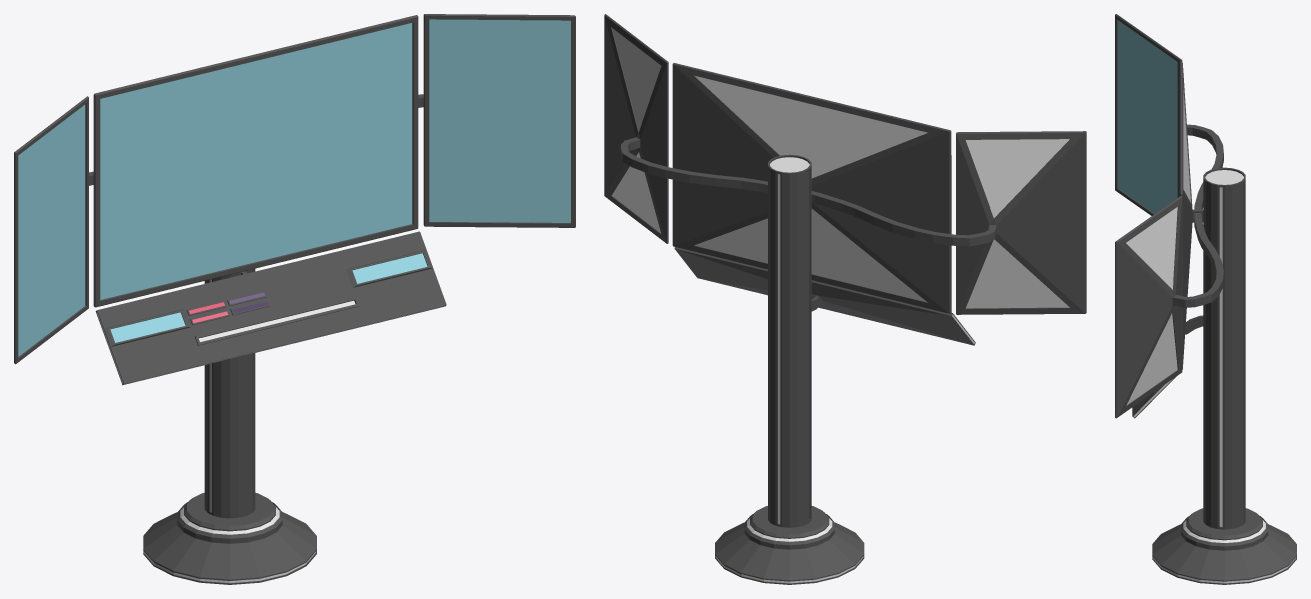
File: computer.fbx
3 renders of one model, left to right at view 1: azimuth 30°, elevation 25°; view 2: azimuth 150°, elevation 25°; view 3: azimuth 270°, elevation 25°, orthographic. The views are drawn at different scales.
Parts seen in each view (by area): view 1: Circle; view 2: Circle; view 3: Circle.
Part boxes in pixels (bbox=[...]): Circle: bbox=[14, 14, 575, 584]; Circle: bbox=[604, 14, 1086, 584]; Circle: bbox=[1115, 14, 1296, 584].
Size of the model in its own units: 302 by 263 by 102.
